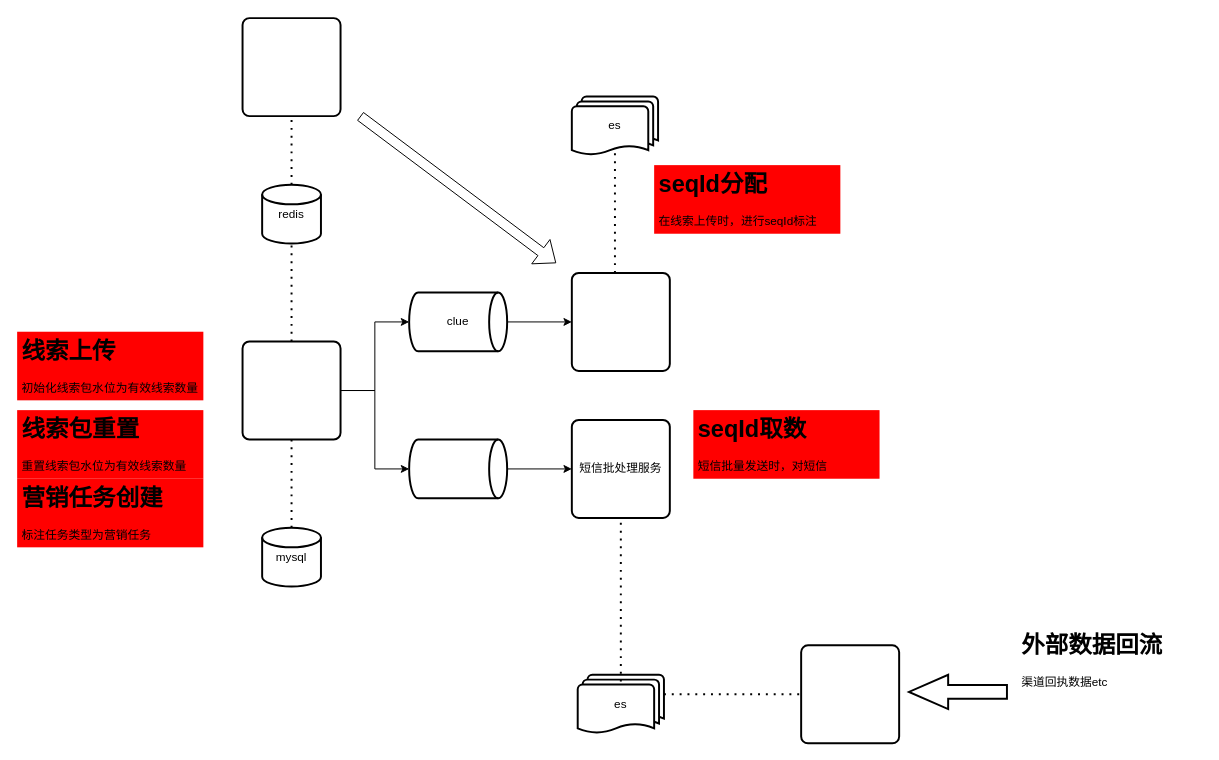
Image size: 1219x760. Some labels were removed from this diagram. Each missing label, with the centre of its shape:
feedback: the point at 850,694
sms: the point at 458,468
定时任务处理服务: the point at 291,67
管理员后台-API: the point at 291,390
线索批处理服务: the point at 620,321
